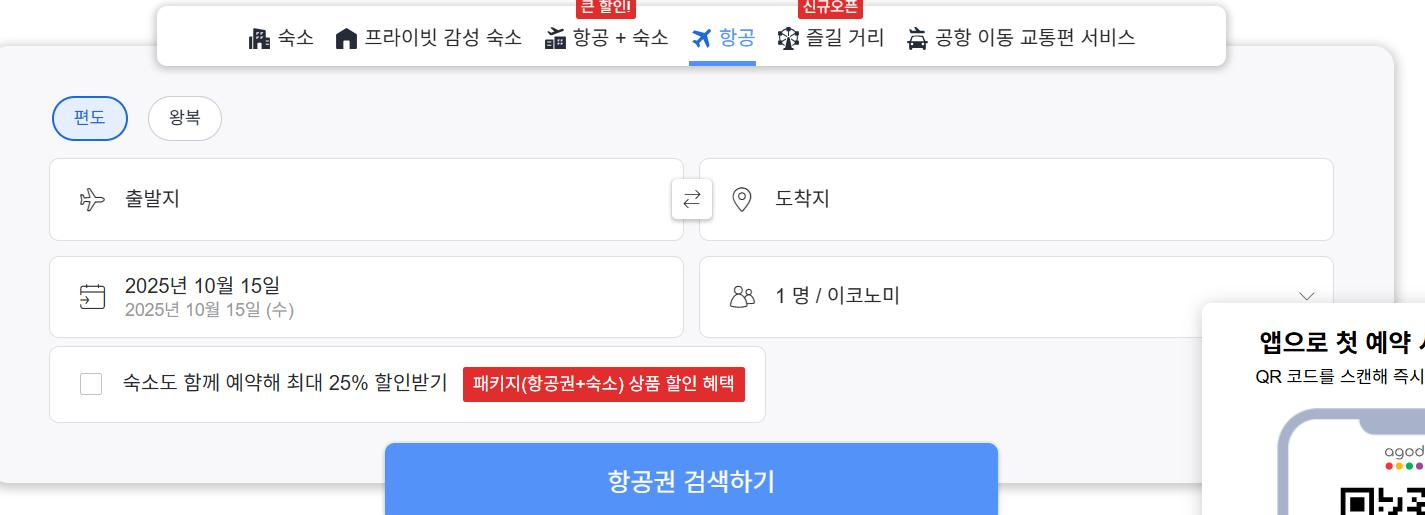button: (386, 441, 995, 515), (78, 268, 664, 323), (904, 20, 1156, 50), (337, 26, 525, 54), (530, 18, 668, 55), (50, 98, 134, 143), (145, 99, 221, 141), (784, 24, 882, 50), (245, 16, 309, 52), (686, 23, 754, 50)
checkbox: (723, 265, 1320, 305), (77, 370, 448, 398)
input_field: (68, 175, 658, 231), (742, 171, 1330, 222)
popup: (1201, 302, 1425, 515)
